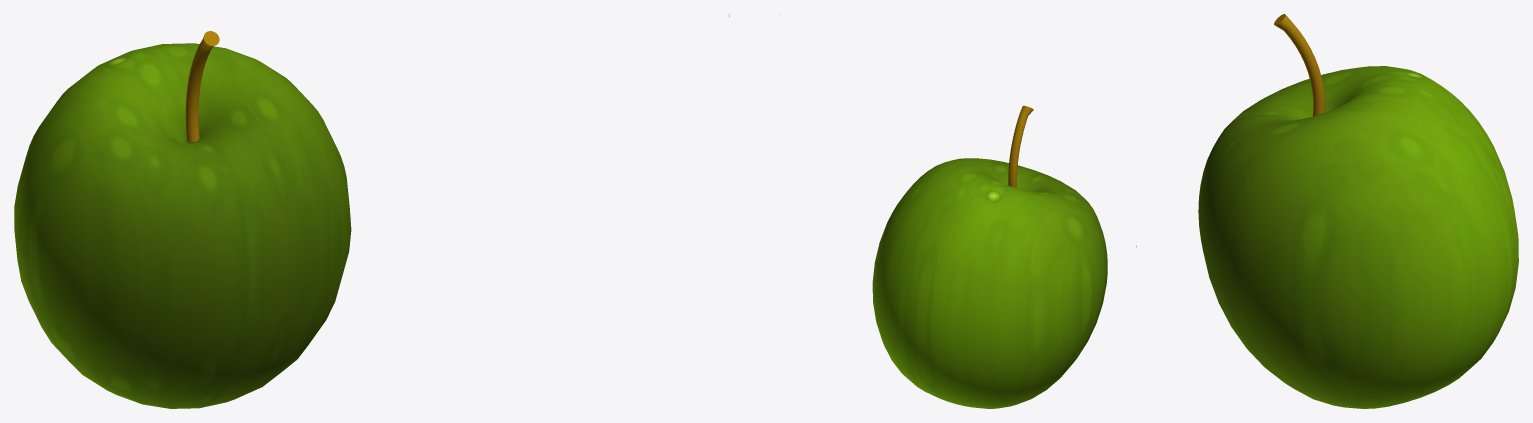
The model's file is AppleWhole.fbx.
The picture shows the model from 3 angles, left to right: view 1: azimuth 30°, elevation 25°; view 2: azimuth 150°, elevation 25°; view 3: azimuth 270°, elevation 25°; orthographic projection. The views are drawn at different scales.
Parts seen in each view (by area): view 1: SketchUp.001; view 2: SketchUp.001; view 3: SketchUp.001.
Part boxes in pixels (x1,y1,x2,y2): SketchUp.001: (14,31,351,408); SketchUp.001: (872,105,1107,408); SketchUp.001: (1198,14,1518,408).
Bounding box in the file's own units: 626 × 406 × 379.
